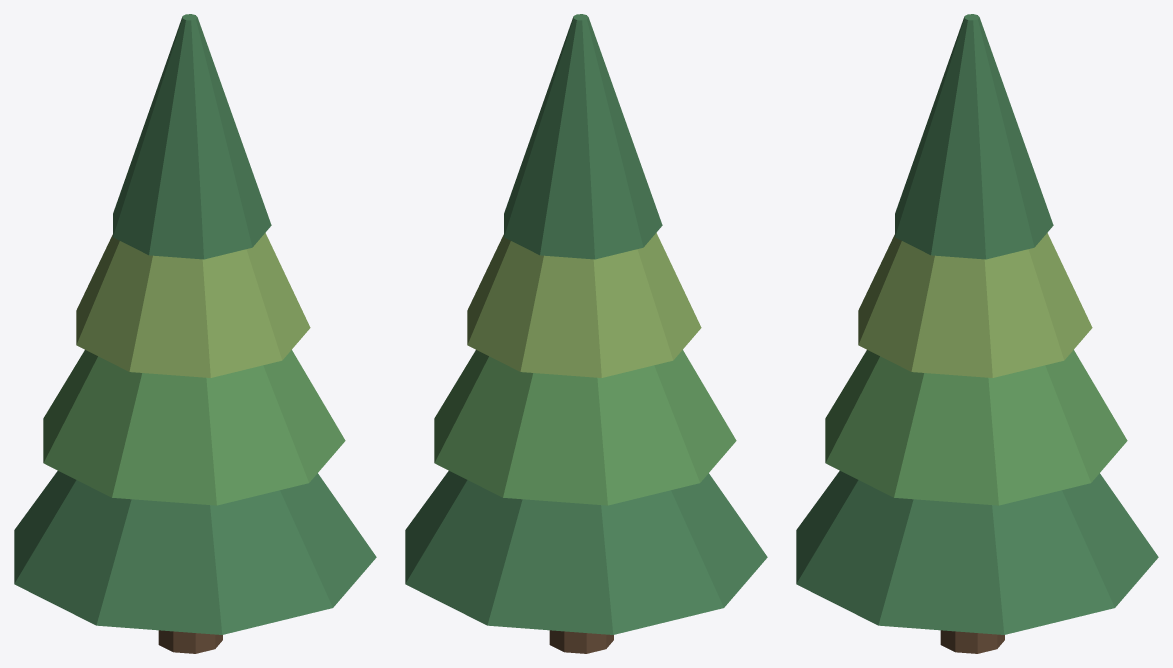
The model's file is pine_tree.glb.
3 views of the same model, side by side, from view 1: azimuth 30°, elevation 25°; view 2: azimuth 150°, elevation 25°; view 3: azimuth 270°, elevation 25° (orthographic).
Parts seen in each view (by area): view 1: PineTree_Geometry; view 2: PineTree_Geometry; view 3: PineTree_Geometry.
Part boxes in pixels (box(x1,y1,x2,y2)): PineTree_Geometry: box(14, 14, 376, 653); PineTree_Geometry: box(405, 14, 767, 653); PineTree_Geometry: box(796, 14, 1158, 653).
Size of the model in its own units: 1.89 by 3.53 by 1.86.
